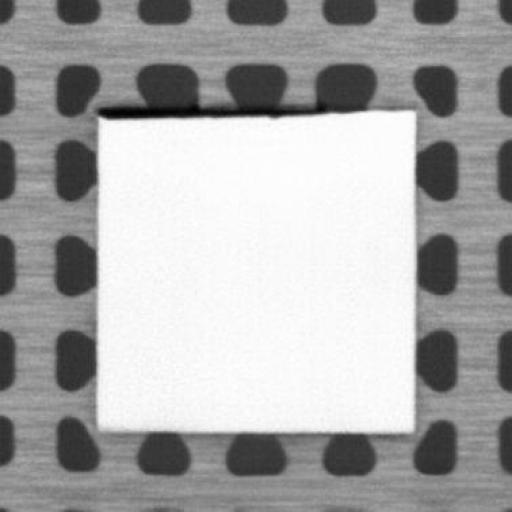DIE_BROKEN: (93, 103, 351, 121)
